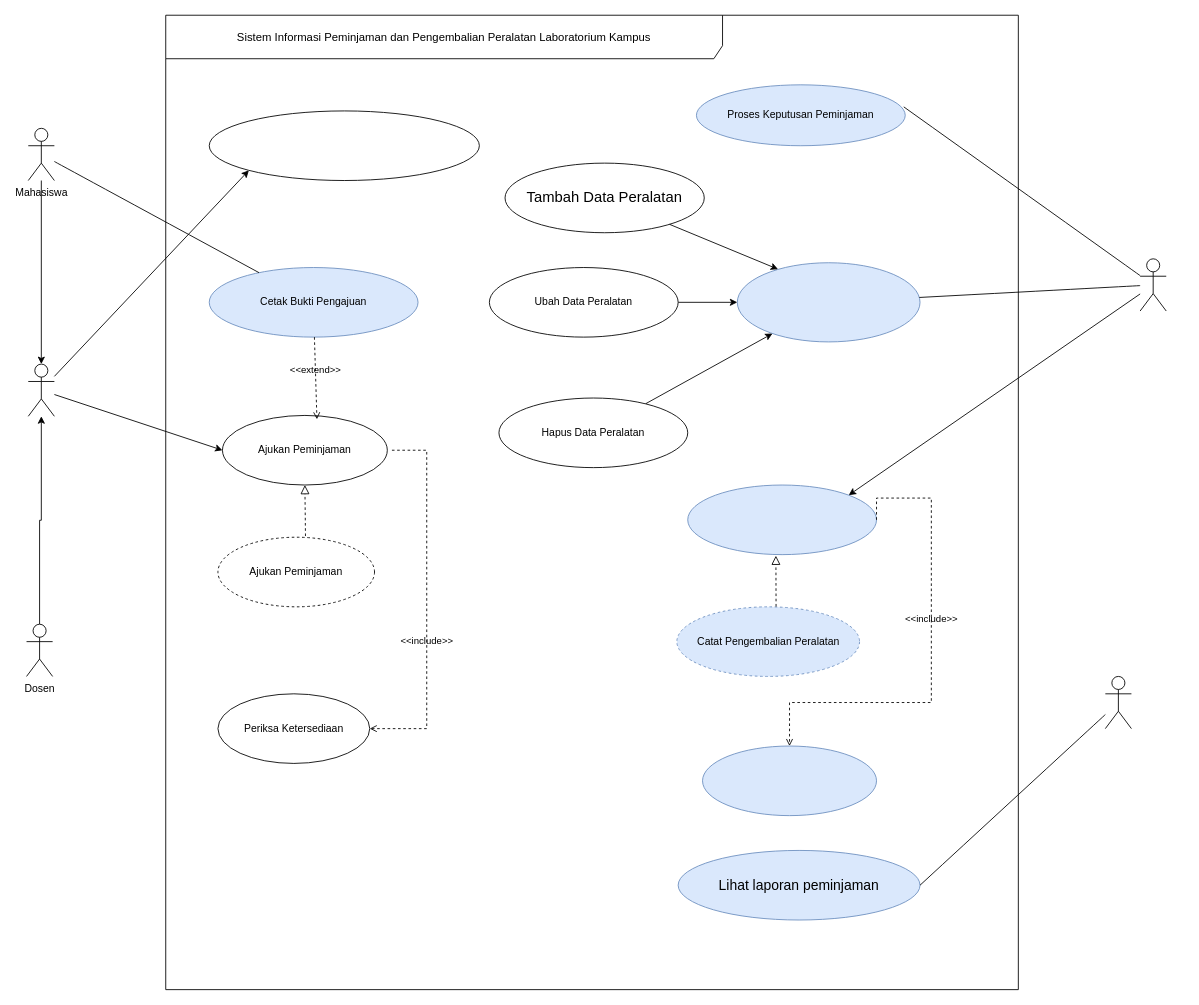
Image size: 1199x1005. Some labels were removed from this diagram. The shapes that lost their labels are listed below. From the top down, each one's box as (x1, y1, x2, y2) in pixels, then its label:
(208, 110, 479, 181): Lihat ketersediaan peralatan
(736, 262, 920, 342): Kelola Data Peralatan
(1139, 258, 1166, 311): Petugas Laboratorium
(27, 363, 54, 416): Peminjam
(687, 484, 877, 555): Cara Pengembalian Peralatan
(1104, 676, 1131, 729): Kepala Laboran
(702, 745, 877, 816): Periksa Kondisi Peralatan
